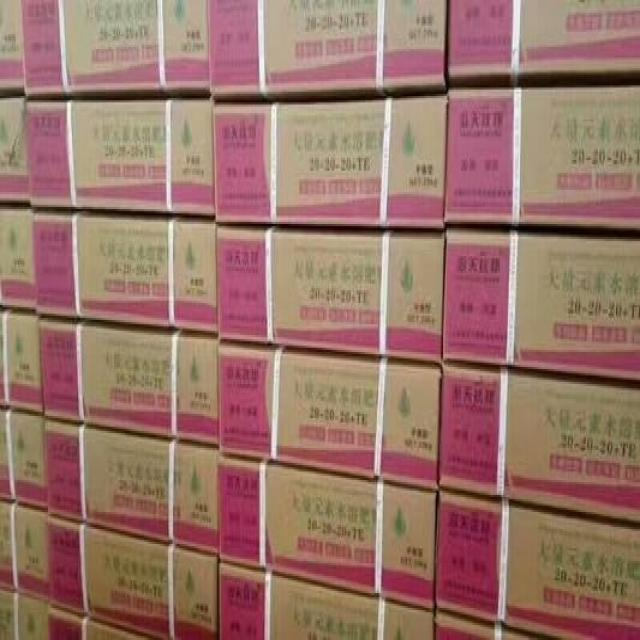box: (219, 453, 437, 610), (219, 341, 441, 488), (439, 366, 638, 526), (217, 225, 447, 363), (213, 95, 447, 229), (443, 81, 639, 235), (443, 226, 639, 380), (436, 490, 639, 638), (30, 208, 218, 334), (37, 316, 219, 446), (45, 422, 218, 555), (26, 97, 214, 216), (208, 4, 446, 95), (48, 513, 218, 638), (20, 1, 209, 95), (217, 559, 434, 638), (448, 2, 639, 85), (0, 502, 48, 602), (1, 410, 47, 511), (0, 202, 36, 311), (49, 606, 162, 638), (0, 93, 29, 205), (433, 610, 542, 638), (0, 590, 49, 638), (0, 2, 25, 90)
